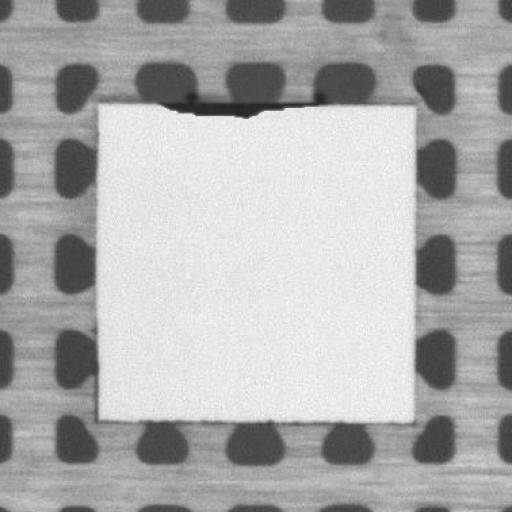DIE_BROKEN: (156, 97, 322, 118)
